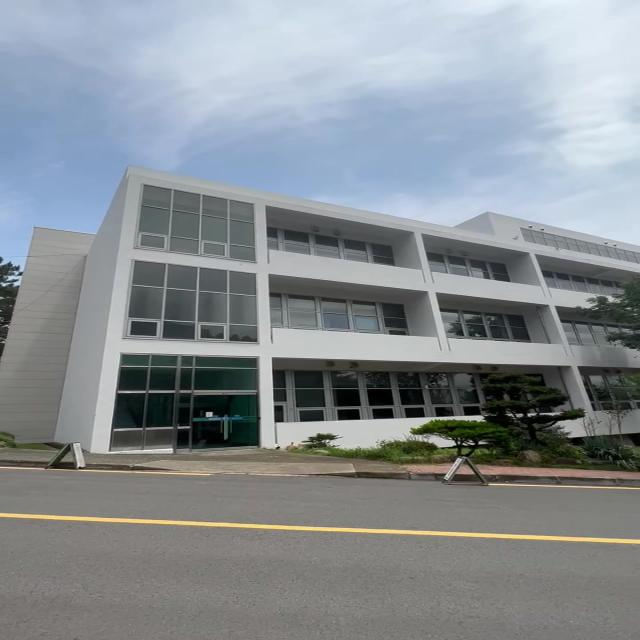building: (22, 171, 574, 423)
